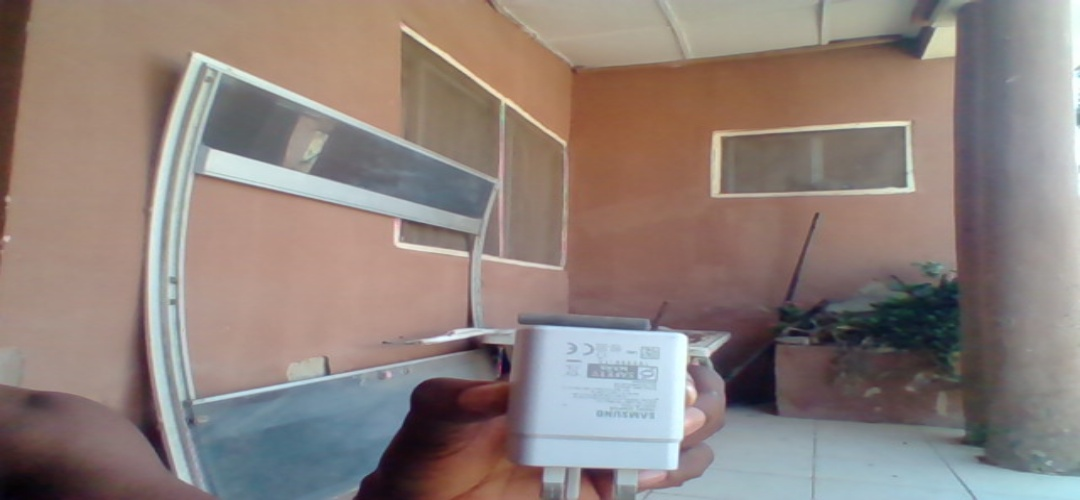phone_charger: (509, 324, 688, 500)
